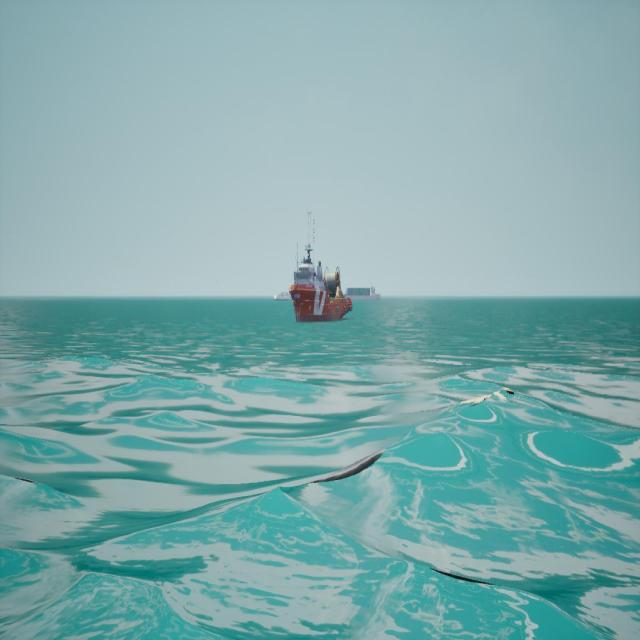tug boat: (282, 213, 353, 326)
